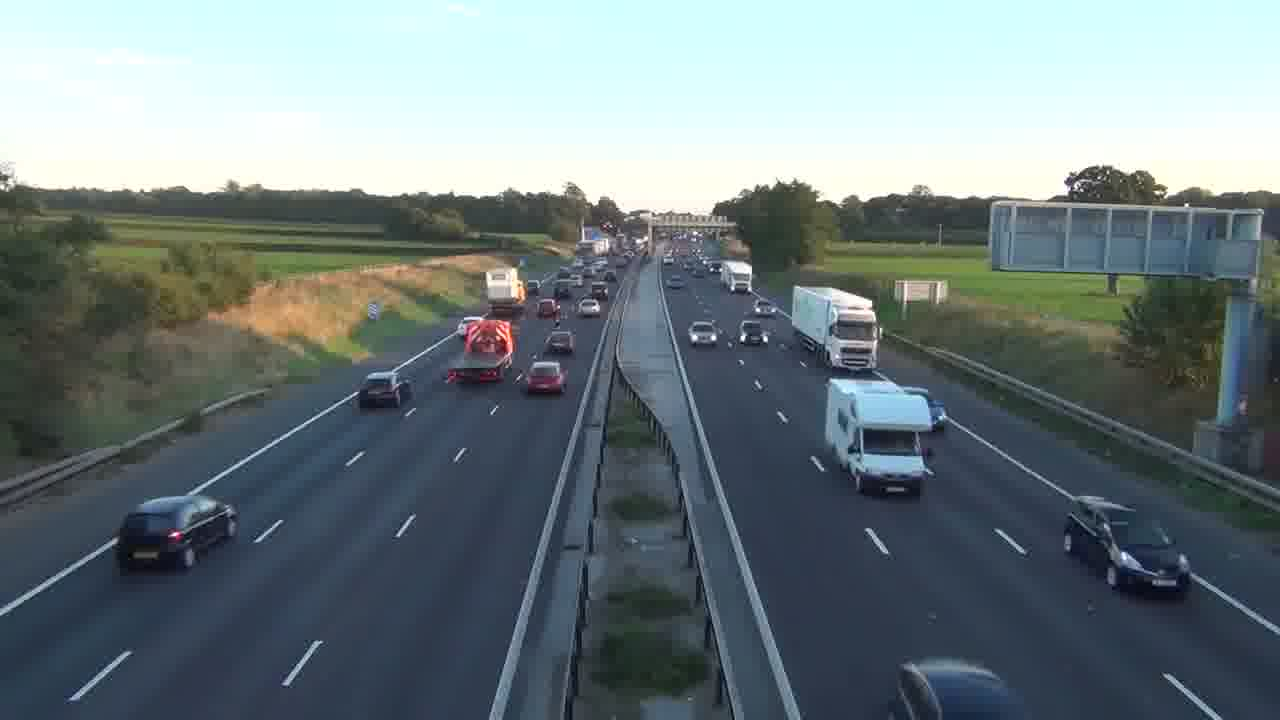car: (888, 656, 1029, 718), (525, 360, 565, 395), (688, 320, 720, 348), (576, 297, 602, 317)
truck: (1062, 494, 1192, 598), (824, 375, 934, 496), (114, 493, 240, 574), (791, 284, 881, 370), (446, 318, 516, 384), (484, 268, 526, 304), (719, 260, 753, 294)
